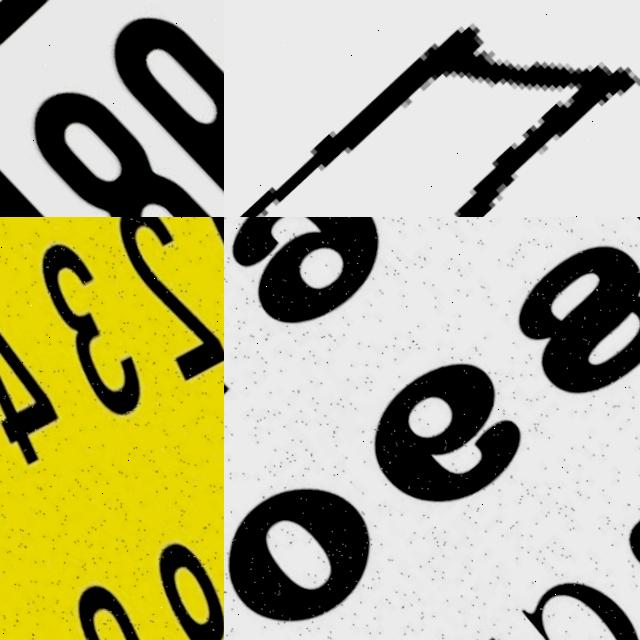0: (224, 433, 407, 640), (0, 533, 224, 640)
1: (118, 217, 224, 369)
2: (33, 217, 224, 422)
3: (0, 217, 217, 456)
4: (0, 225, 135, 501)
5: (224, 0, 640, 217), (0, 287, 43, 536), (326, 217, 565, 252)
6: (224, 217, 419, 362)
7: (224, 241, 281, 466)
8: (461, 217, 640, 437), (0, 64, 224, 217), (140, 444, 224, 640)
9: (320, 327, 555, 549), (74, 0, 224, 217), (59, 491, 224, 640)
M: (0, 147, 155, 217)
